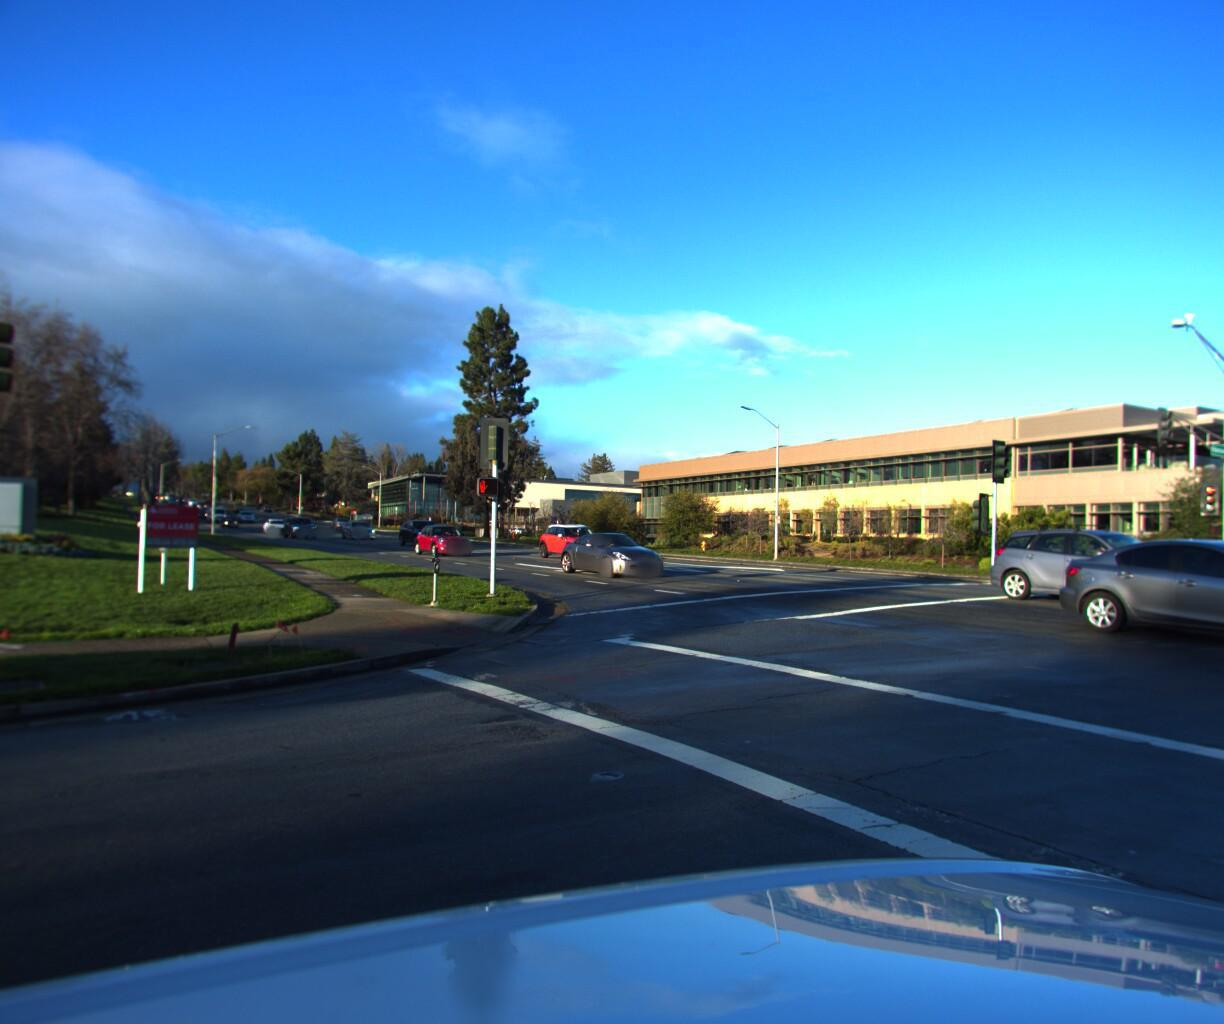car: (1041, 533, 1224, 666), (975, 525, 1224, 612), (555, 526, 672, 577), (536, 520, 614, 560), (413, 522, 476, 556), (396, 517, 446, 545), (341, 518, 379, 539), (287, 514, 322, 536), (262, 517, 291, 535)
